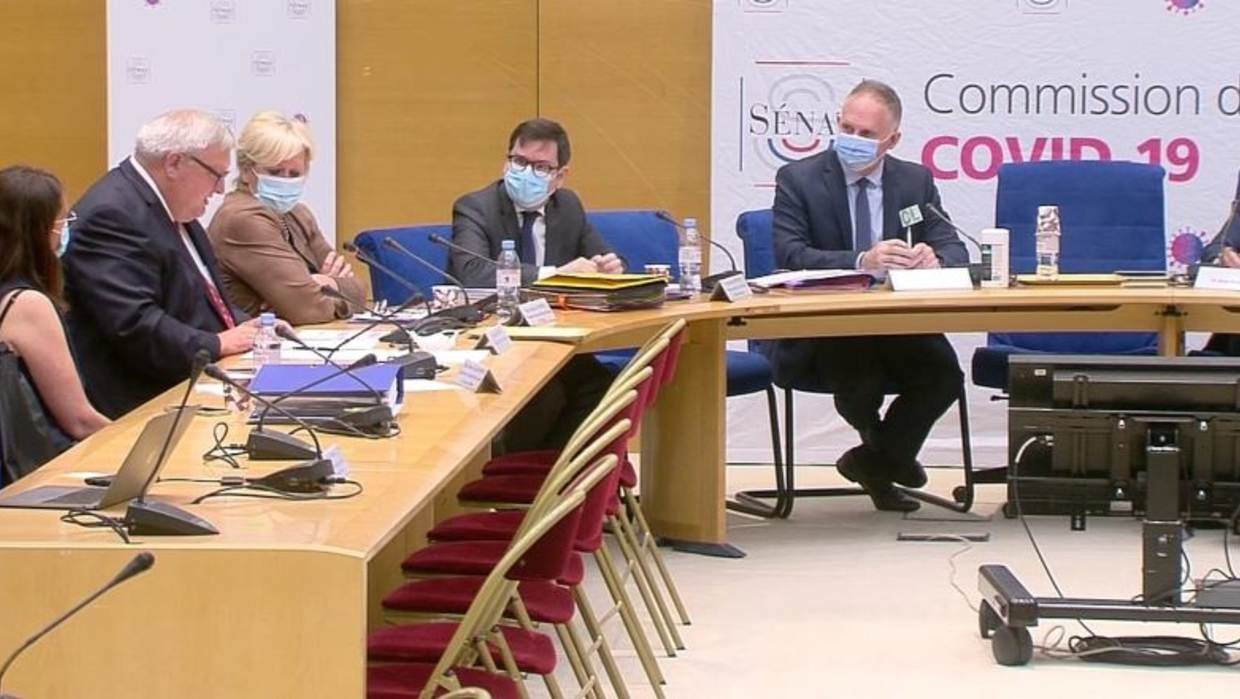with_mask: (831, 105, 899, 172), (497, 146, 572, 205), (242, 154, 312, 214)
without_mask: (166, 147, 232, 223)
